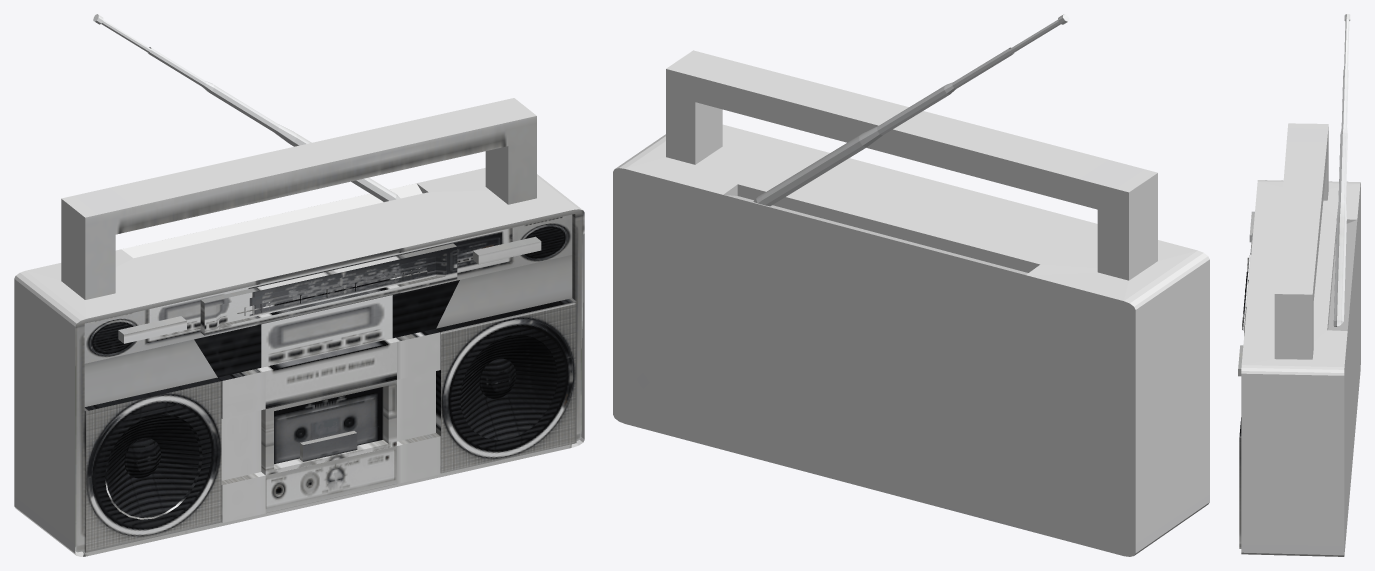
Rendered from Radio.fbx.
The picture shows the model from 3 angles, left to right: view 1: azimuth 30°, elevation 25°; view 2: azimuth 150°, elevation 25°; view 3: azimuth 270°, elevation 25°; orthographic projection. The views are drawn at different scales.
Parts seen in each view (by area): view 1: Radio; view 2: Radio; view 3: Radio.
Part boxes in pixels (left/top/right/bottom): Radio: left=14, top=14, right=584, bottom=556; Radio: left=613, top=14, right=1209, bottom=556; Radio: left=1238, top=14, right=1360, bottom=556.
Size of the model in its own units: 0.3955 by 0.3641 by 0.1058.
1 material, 1 textured.
